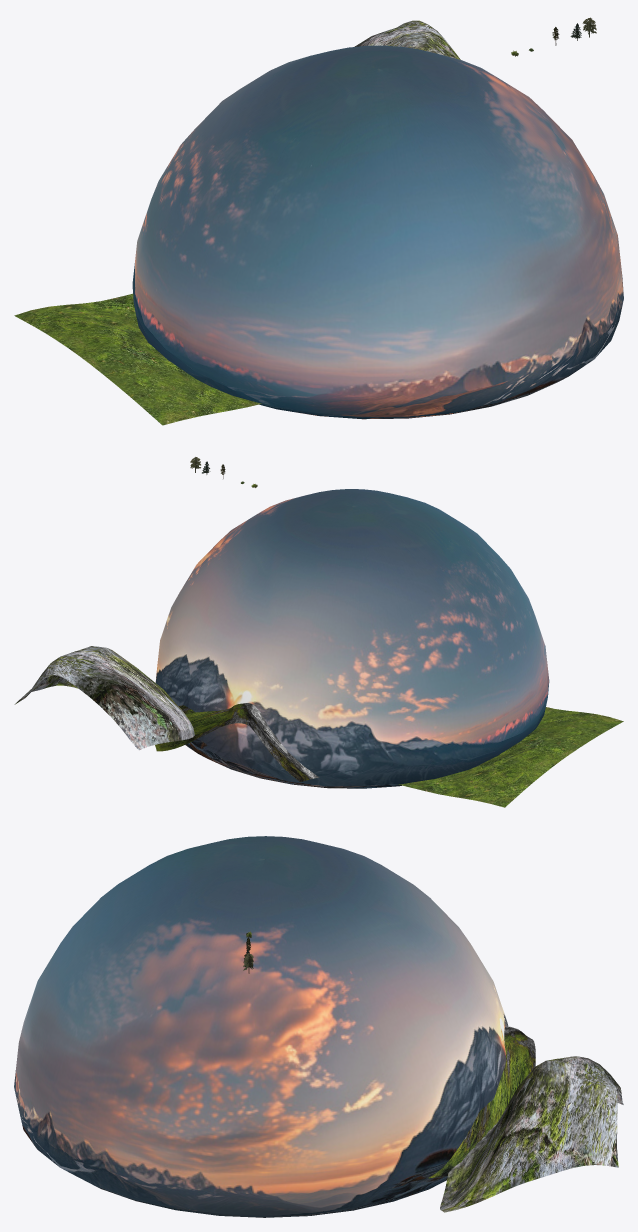
File: landscape_forest__mountains.glb
3 renders of one model, top to bottom at view 1: azimuth 30°, elevation 25°; view 2: azimuth 150°, elevation 25°; view 3: azimuth 270°, elevation 25°, orthographic. The views are drawn at different scales.
Visible parts, largest first — view 1: Sphere, Plane.008, Plane.009; view 2: Sphere, Plane.009, Plane.008, Plane.007; view 3: Sphere, Plane.009, Plane.007.
Boxes of the visible parts, bbox=[...] form: Sphere: bbox=[132, 45, 623, 419]; Plane.008: bbox=[14, 293, 261, 425]; Plane.009: bbox=[354, 20, 460, 59]; Sphere: bbox=[155, 489, 549, 788]; Plane.009: bbox=[14, 646, 194, 750]; Plane.008: bbox=[398, 707, 623, 807]; Plane.007: bbox=[155, 703, 319, 782]; Sphere: bbox=[14, 836, 508, 1217]; Plane.009: bbox=[440, 1056, 623, 1212]; Plane.007: bbox=[428, 1026, 535, 1178].
Size of the model in its own units: 95.92 by 49.54 by 91.41.
Materials: 10 (10 with a texture image).
